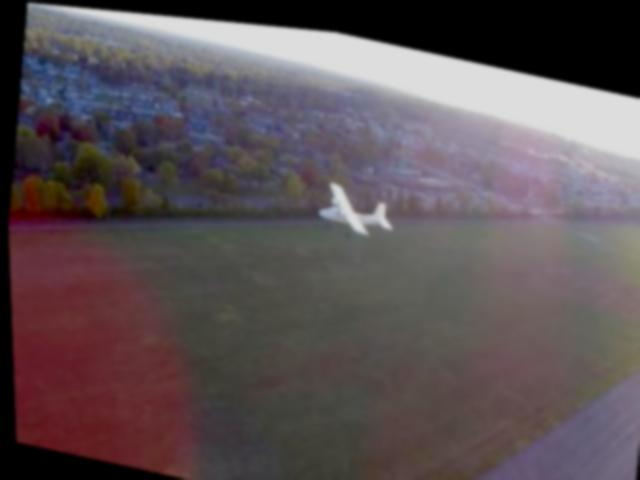uav: (311, 169, 397, 238)
